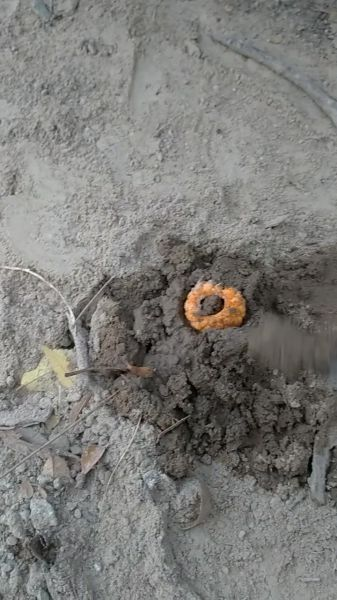eggs: (177, 274, 251, 334)
